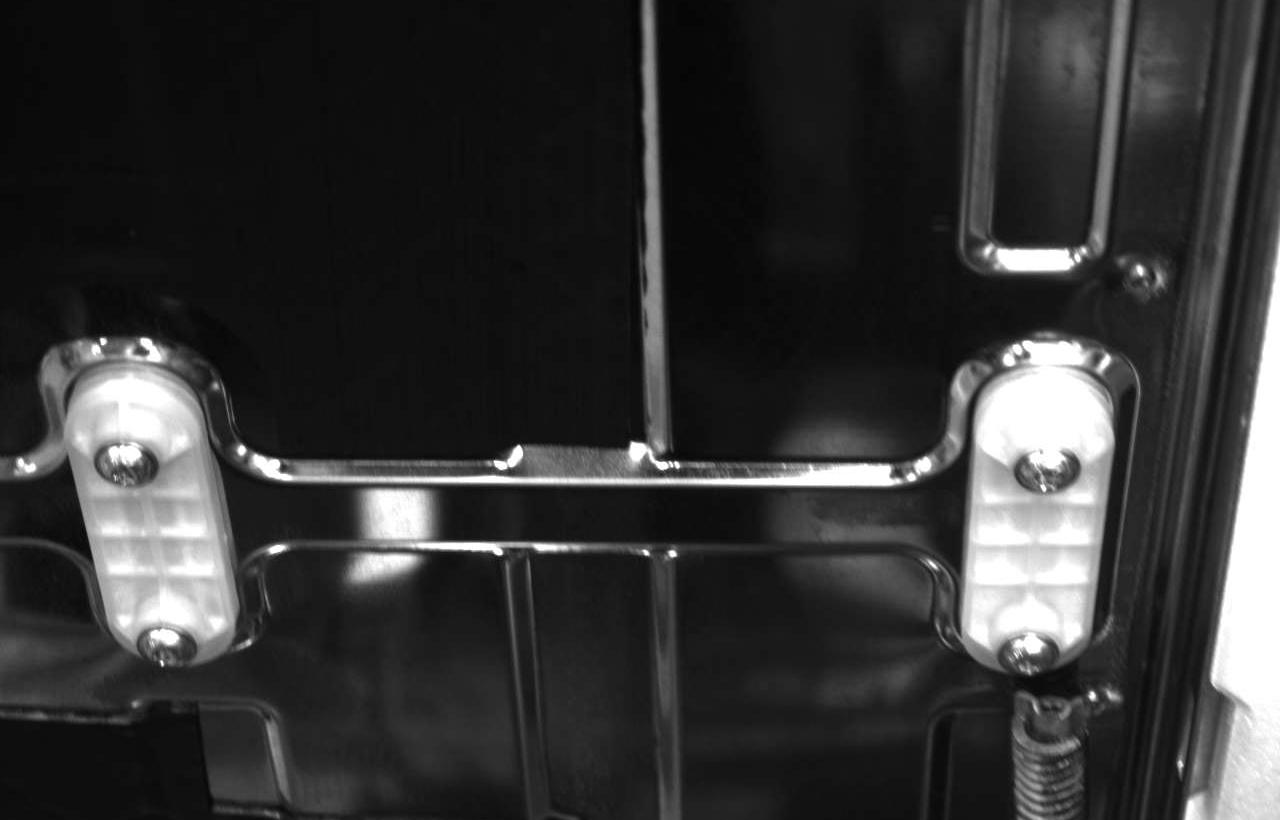vida-ok: (93, 429, 164, 497), (1019, 438, 1086, 505), (999, 619, 1064, 678), (134, 617, 200, 675)
